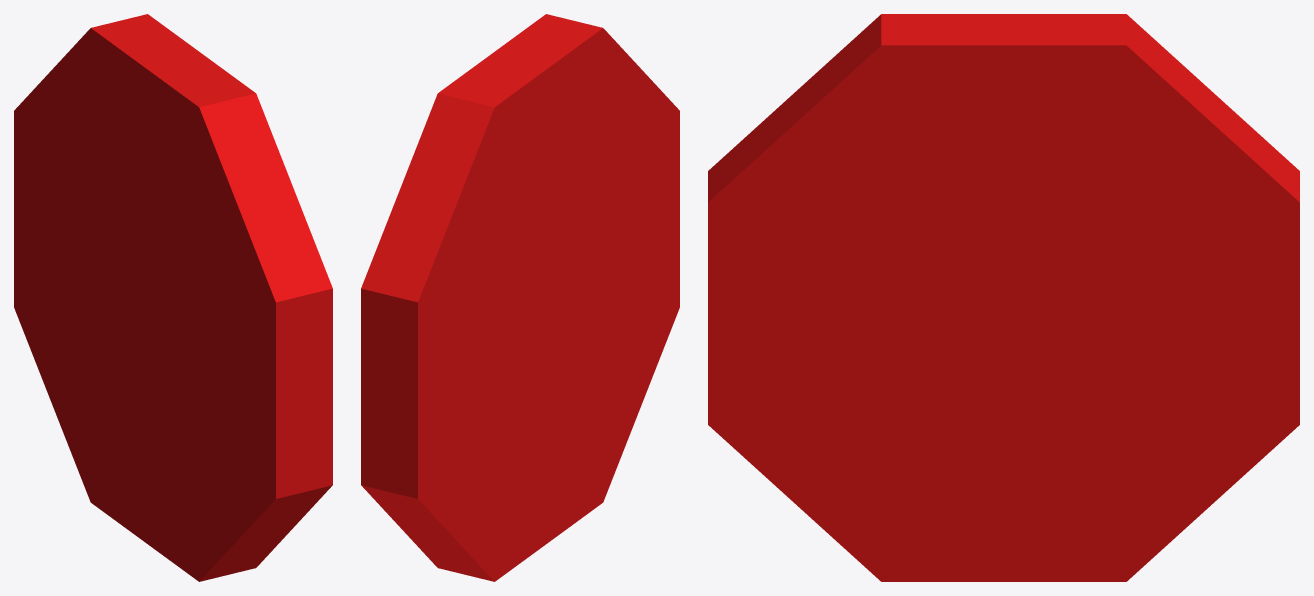
The model's file is Arret.fbx.
3 renders of one model, left to right at view 1: azimuth 30°, elevation 25°; view 2: azimuth 150°, elevation 25°; view 3: azimuth 270°, elevation 25°, orthographic. The views are drawn at different scales.
Visible parts, largest first — view 1: Arret; view 2: Arret; view 3: Arret.
Part boxes in pixels (x1,y1,x2,y2): Arret: (14,14,332,581); Arret: (361,14,679,581); Arret: (708,14,1299,581).
Bounding box in the file's own units: 11.96 × 95.08 × 95.08.
